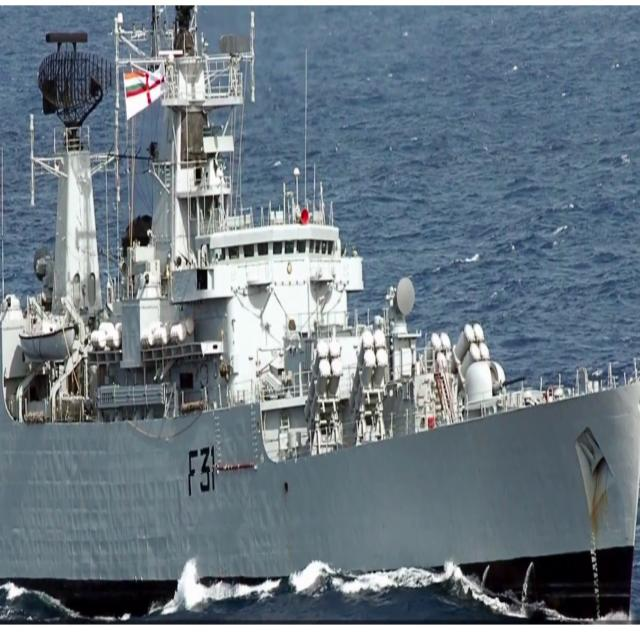OCR: (184, 440, 217, 500)
